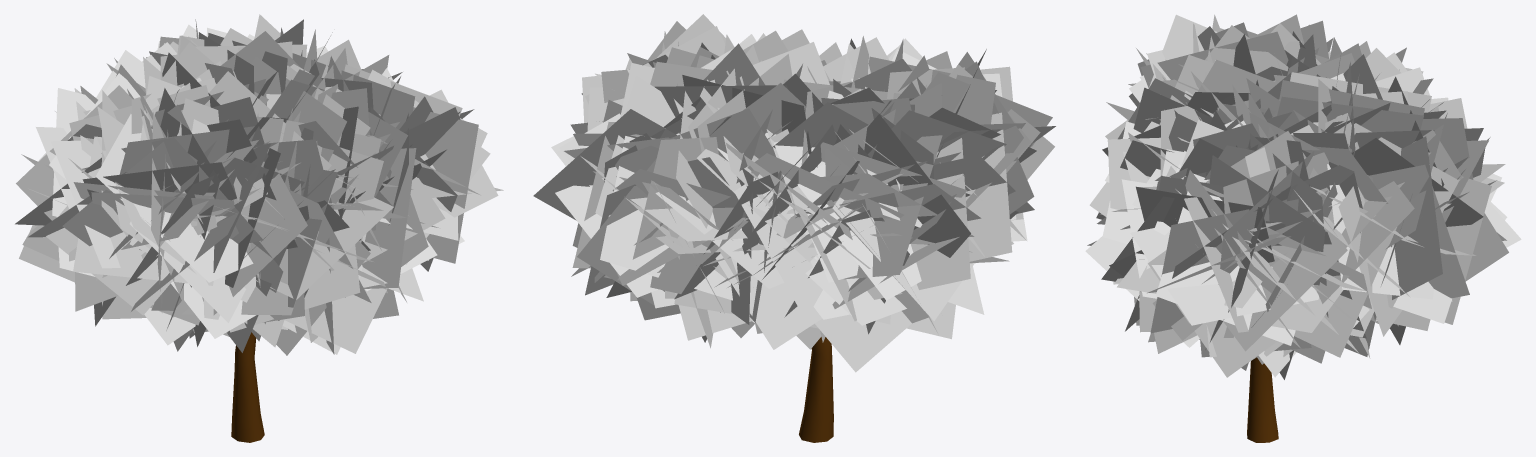
File: Tree 2.fbx
The picture shows the model from 3 angles, left to right: view 1: azimuth 30°, elevation 25°; view 2: azimuth 150°, elevation 25°; view 3: azimuth 270°, elevation 25°; orthographic projection. The views are drawn at different scales.
Parts seen in each view (by area): view 1: Cube.003; view 2: Cube.003; view 3: Cube.003.
Part boxes in pixels (bbox=[...]): Cube.003: bbox=[15, 14, 503, 442]; Cube.003: bbox=[533, 14, 1055, 442]; Cube.003: bbox=[1085, 14, 1521, 442].
Bounding box in the file's own units: 11.48 × 9.53 × 9.92.
